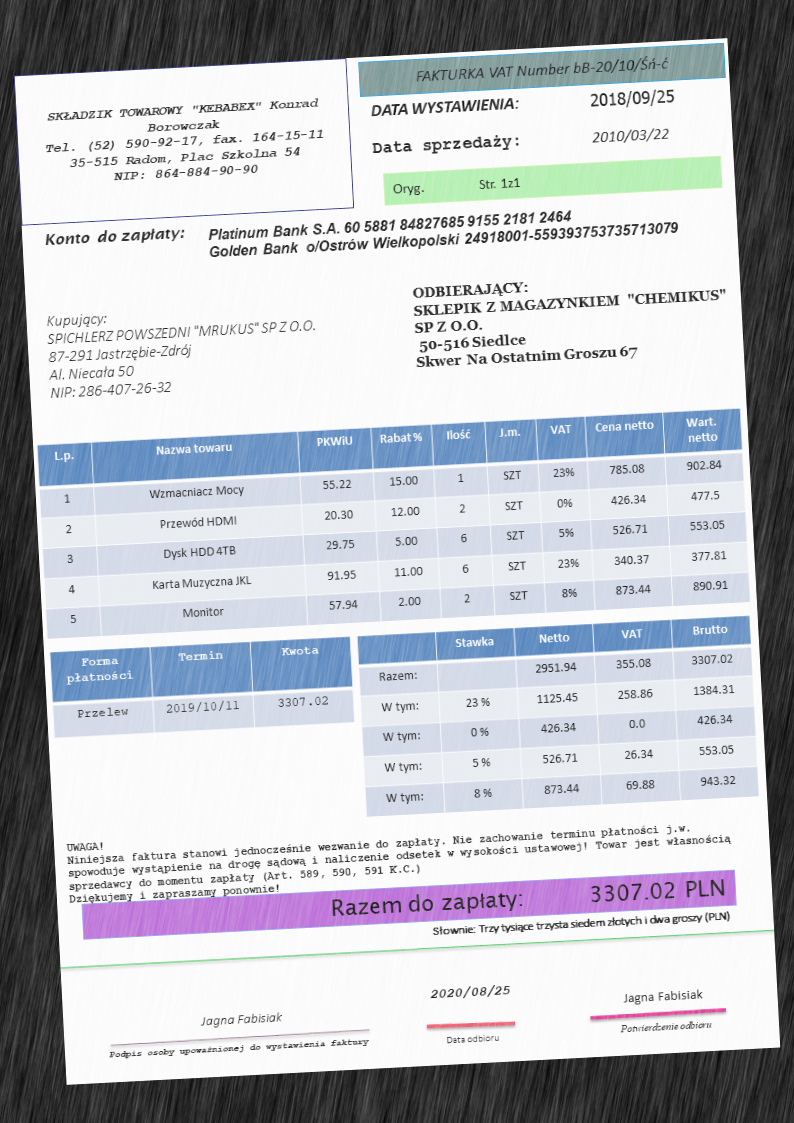Table: (35, 406, 752, 639), (357, 615, 760, 819), (47, 634, 356, 740)
TextBox: (64, 807, 733, 907), (410, 269, 730, 371), (205, 200, 680, 261), (42, 298, 319, 401), (43, 94, 328, 187), (328, 874, 727, 923), (429, 908, 732, 941), (412, 54, 672, 86), (106, 1034, 370, 1062), (369, 130, 522, 160), (41, 223, 187, 252), (368, 94, 522, 120), (390, 174, 523, 199), (587, 85, 677, 110), (618, 1017, 714, 1036), (620, 987, 703, 1006), (590, 126, 671, 145), (198, 1010, 283, 1028), (428, 983, 513, 1001), (443, 1031, 502, 1047)
